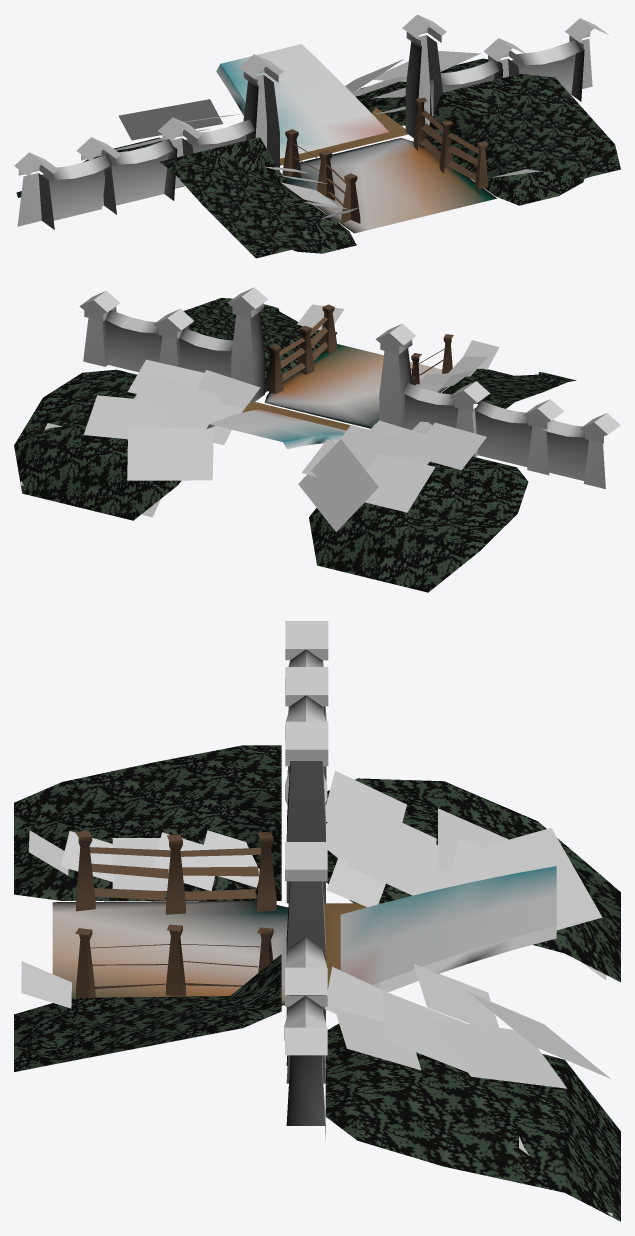
The model's file is zone08a.FBX.
The picture shows the model from 3 angles, top to bottom: view 1: azimuth 30°, elevation 25°; view 2: azimuth 150°, elevation 25°; view 3: azimuth 270°, elevation 25°; orthographic projection. The views are drawn at different scales.
Parts seen in each view (by area): view 1: Object33, Object03, Object05; view 2: Object33, Object03, Object05; view 3: Object03, Object33, Object05.
Part boxes in pixels (x1,y1,x2,y2): Object33: (14, 14, 608, 233); Object03: (16, 58, 620, 258); Object05: (115, 51, 541, 219); Object33: (79, 287, 620, 488); Object03: (14, 298, 576, 592); Object05: (19, 304, 499, 531); Object03: (14, 745, 620, 1221); Object33: (52, 621, 556, 1139); Object05: (21, 770, 612, 1216).
Size of the model in its own units: 3464 by 1026 by 2064.
